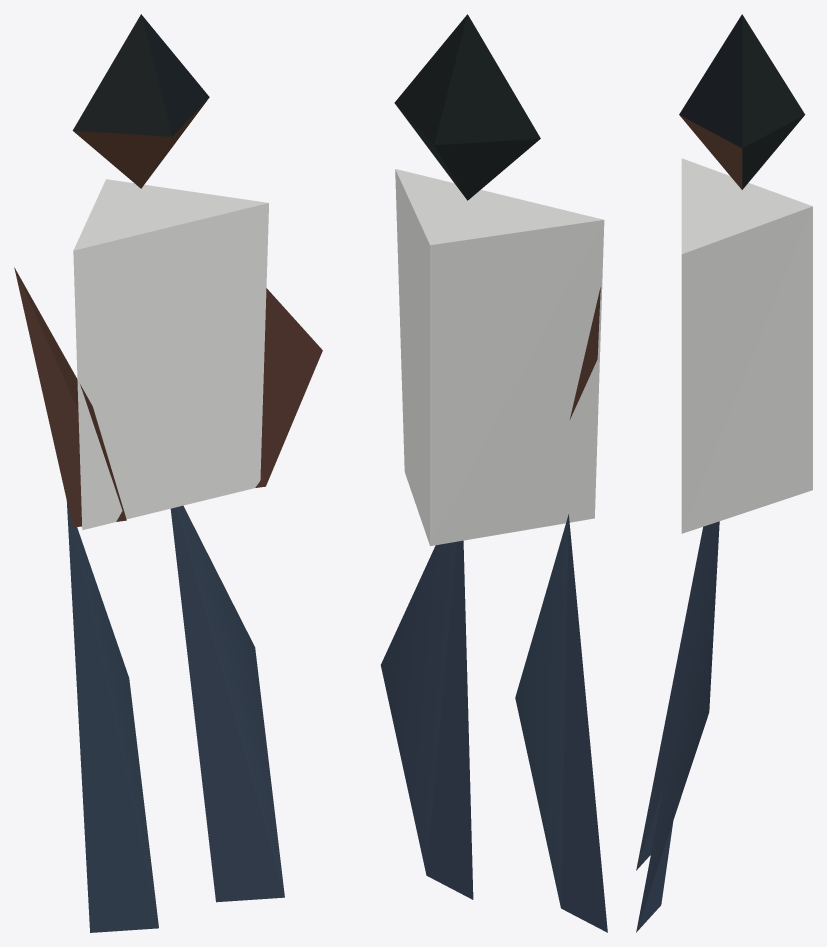
Rendered from fan-10.glb.
3 renders of one model, left to right at view 1: azimuth 30°, elevation 25°; view 2: azimuth 150°, elevation 25°; view 3: azimuth 270°, elevation 25°, orthographic. The views are drawn at different scales.
Parts seen in each view (by area): view 1: fan-10; view 2: fan-10; view 3: fan-10.
Boxes of the visible parts, x1,y1,x2,y2 form: fan-10: [14, 14, 322, 932]; fan-10: [380, 14, 607, 932]; fan-10: [636, 14, 812, 932].
Bounding box in the file's own units: 0.625 × 1.91 × 0.35.
